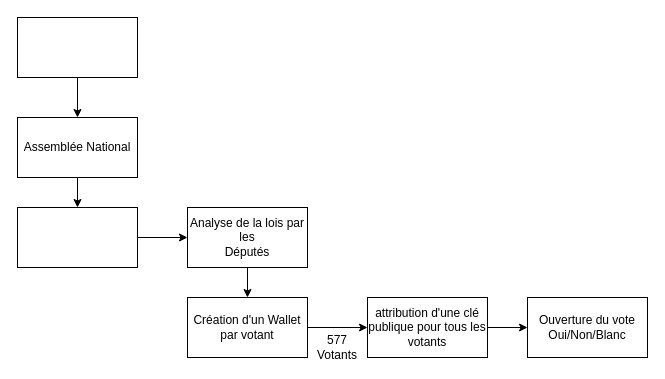
The diagram is 665 pixels wide and 379 high, and some of its shapes have lost their labels. Here are the shapes that lost their labels. From the top down, the centre of each, then its label:
[77,47]: Proposition de lois du Président à l'assemblée
[77,237]: Sénat
